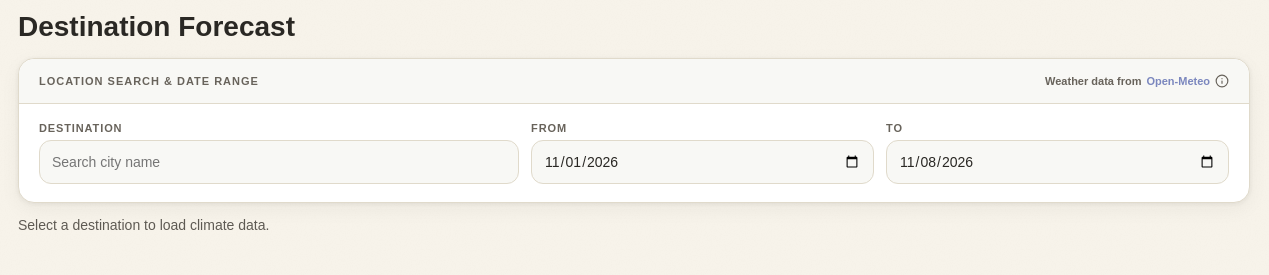
ForecastTool › FE-FOR-005 shows error state when geocoding fails
Type "Bar" into the dropdown named "Search destination" at [279, 162], box [39, 140, 519, 184]
Wait 500 ms
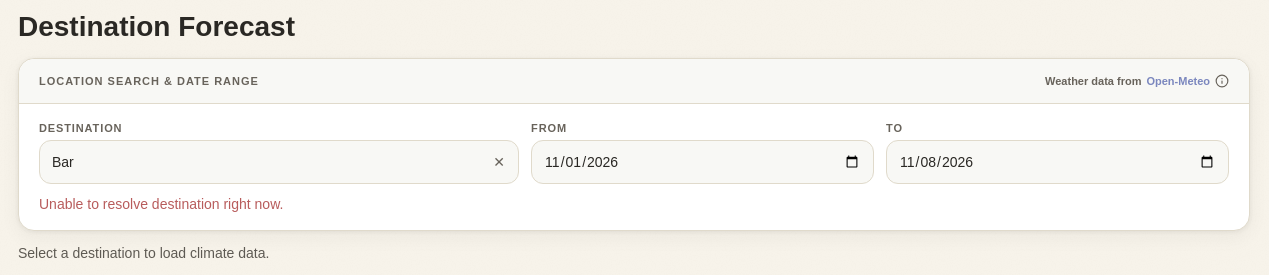
Result: the text "Unable to resolve destination right now." is shown at [39, 196, 283, 212]
